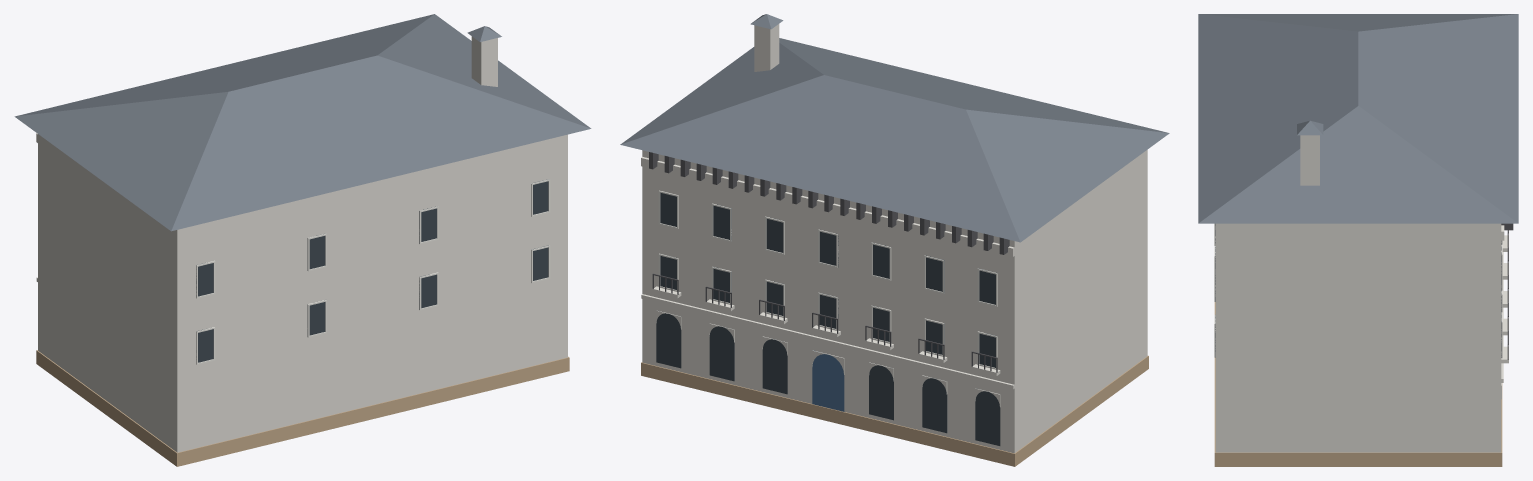
File: ca_classical3.glb
3 views of the same model, side by side, from view 1: azimuth 30°, elevation 25°; view 2: azimuth 150°, elevation 25°; view 3: azimuth 270°, elevation 25° (orthographic). The views are drawn at different scales.
Visible parts, largest first — view 1: ca_classical3; view 2: ca_classical3; view 3: ca_classical3.
Part boxes in pixels (box(x1,y1,x2,y2)): ca_classical3: box(14, 14, 591, 466); ca_classical3: box(620, 14, 1169, 466); ca_classical3: box(1198, 14, 1518, 466).
Size of the model in its own units: 22.6 by 16.45 by 14.6.
